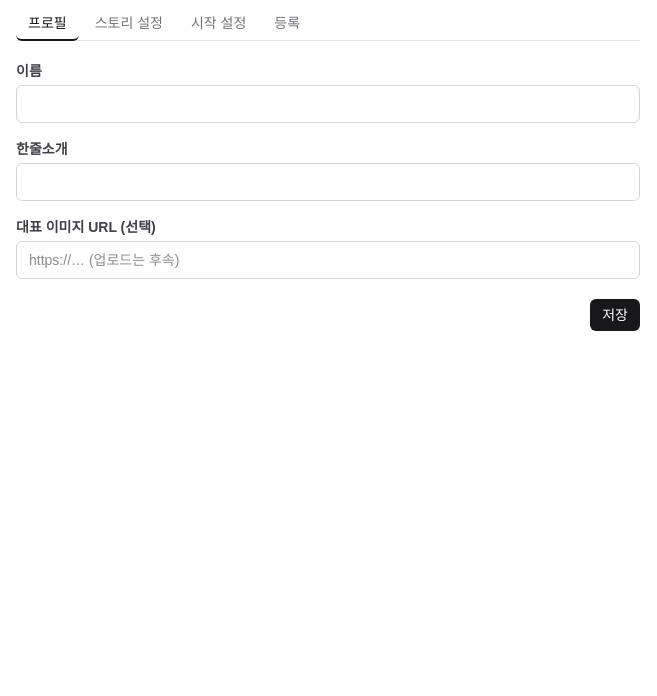
Test: StoryForm (#47) › 시작 설정을 추가/삭제할 수 있다(다중)
Step 1. Click the tab "시작 설정" → point(219, 24), box [179,7,258,41]
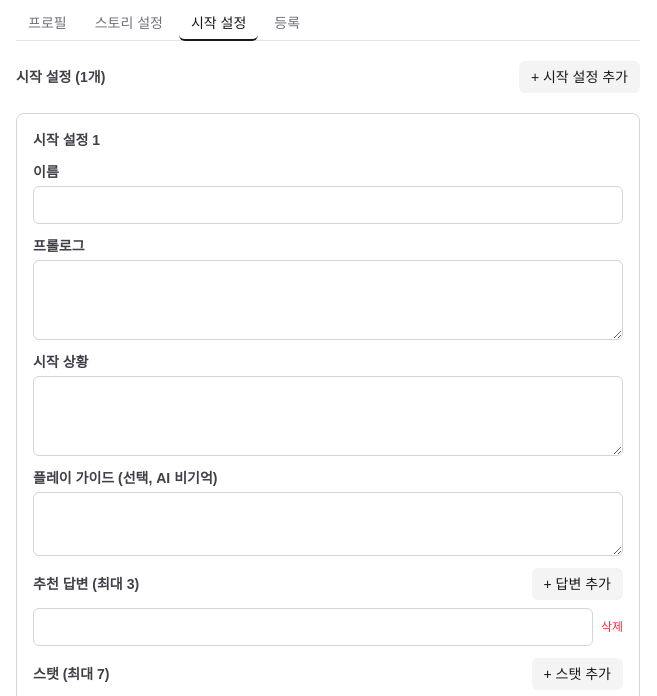
expect the text "시작 설정 (1개)" is shown: met, box [16,67,105,87]
Step 2. Click the button "+ 시작 설정 추가" → point(579, 77), box [519,61,640,93]
(page scrolled)
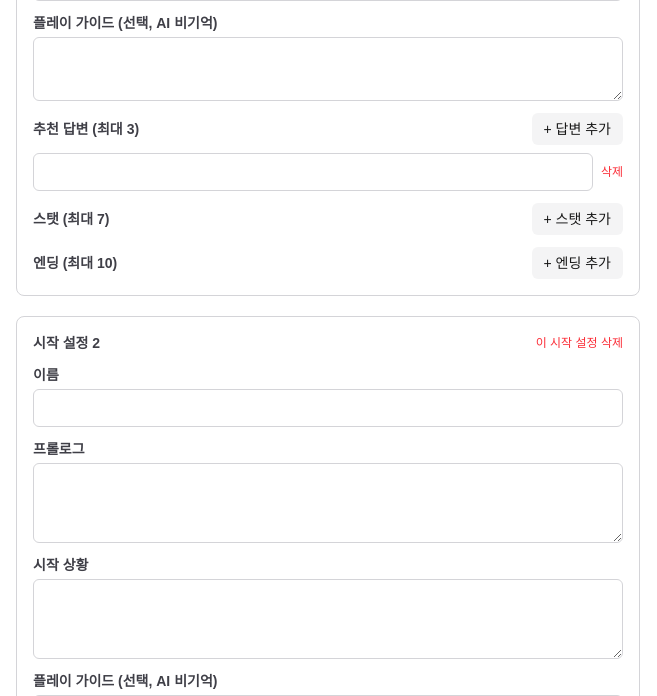
Step 3. Click the button "이 시작 설정 삭제" → point(579, 343), box [536,335,623,351]
(page scrolled)
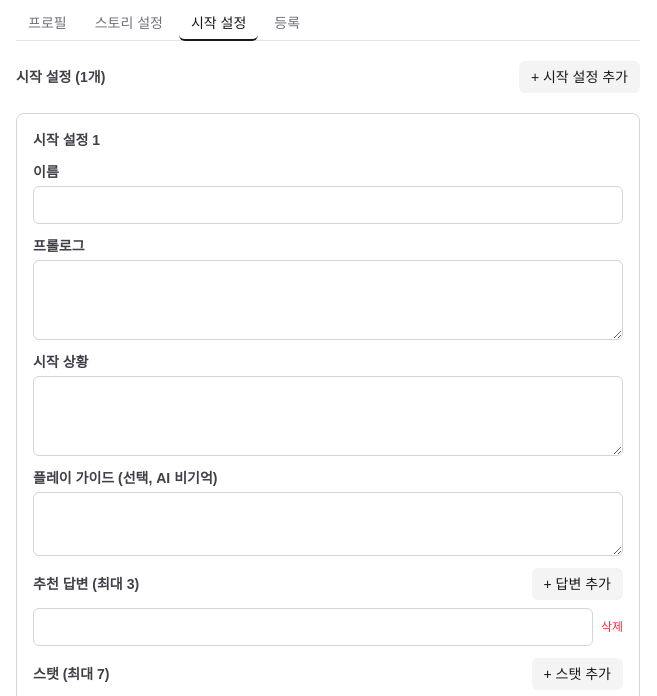
expect the text "시작 설정 (1개)" is shown: met, box [16,67,105,87]
